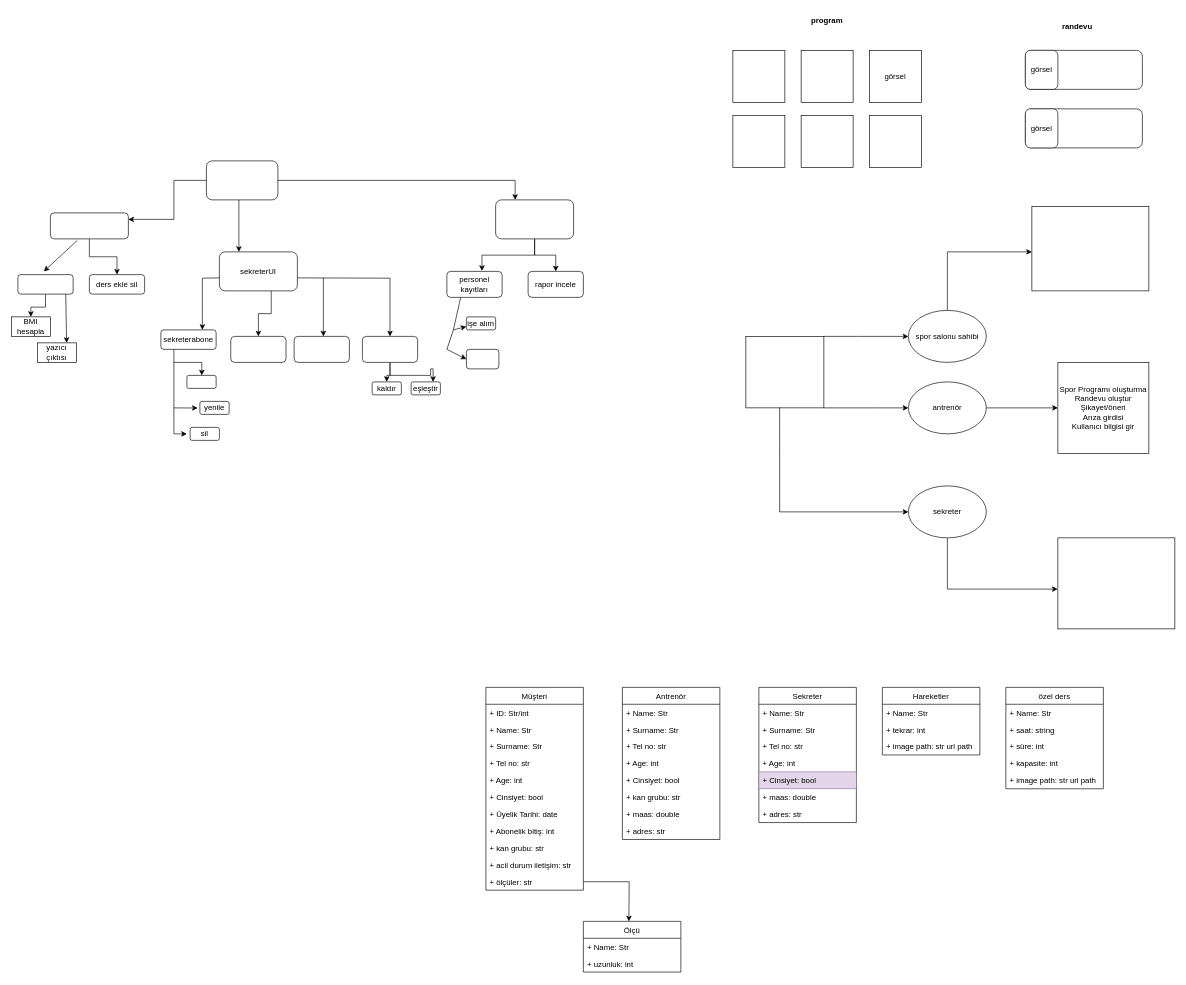
Some shapes in this 1186 by 985 pixel diagram are drawn without their labels. Each missing label, with the centre of its shape:
"antrenörUI" goes at point (89, 225).
"ders programı" goes at point (45, 284).
"ekle" goes at point (201, 381).
"işten çıkaert" goes at point (482, 359).
"login" goes at point (242, 180).
"login page" goes at point (784, 372).
"managerrUI" goes at point (534, 219).
"Personel kayıt Son rapor yolla" goes at point (1090, 248).
"sekreterrezervasyon" goes at point (390, 349).
"sekretersatıs" goes at point (258, 349).
"sekretersıkayet" goes at point (321, 349).
"Üye kayıt Abonelik işlemleri Birebir rezervasyon Satış raporlama Şikayet/öneri" goes at point (1116, 583).
